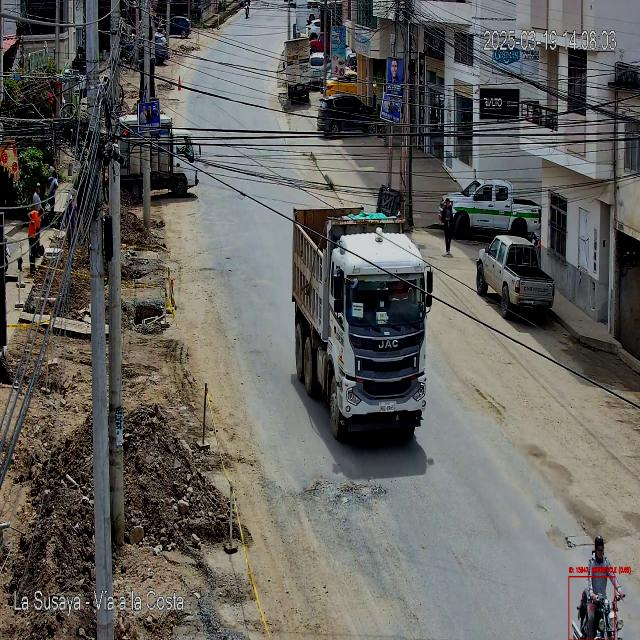CMT: (474, 234, 554, 322)
TRUCK: (291, 210, 433, 442)
